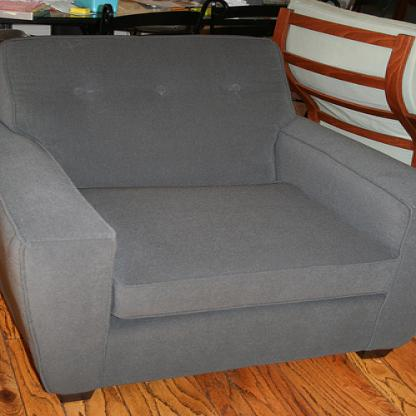chair: (0, 34, 415, 404), (270, 0, 415, 168)
